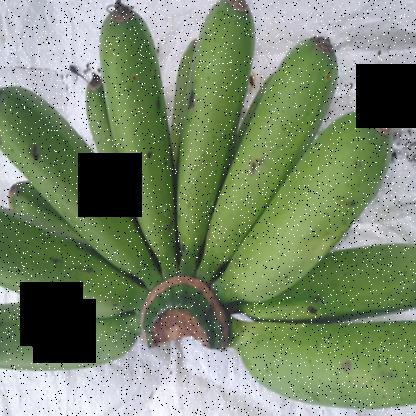unripe: (200, 75, 398, 306), (1, 84, 157, 294), (183, 28, 338, 239), (100, 1, 186, 274), (213, 306, 415, 412), (175, 1, 255, 259), (230, 221, 415, 330), (1, 200, 144, 324), (1, 289, 151, 381)
